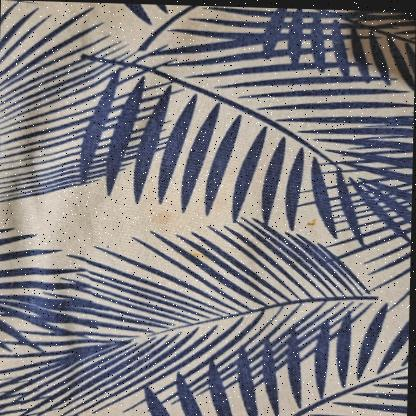spot: (143, 202, 180, 229), (300, 214, 321, 226), (187, 249, 209, 260)
